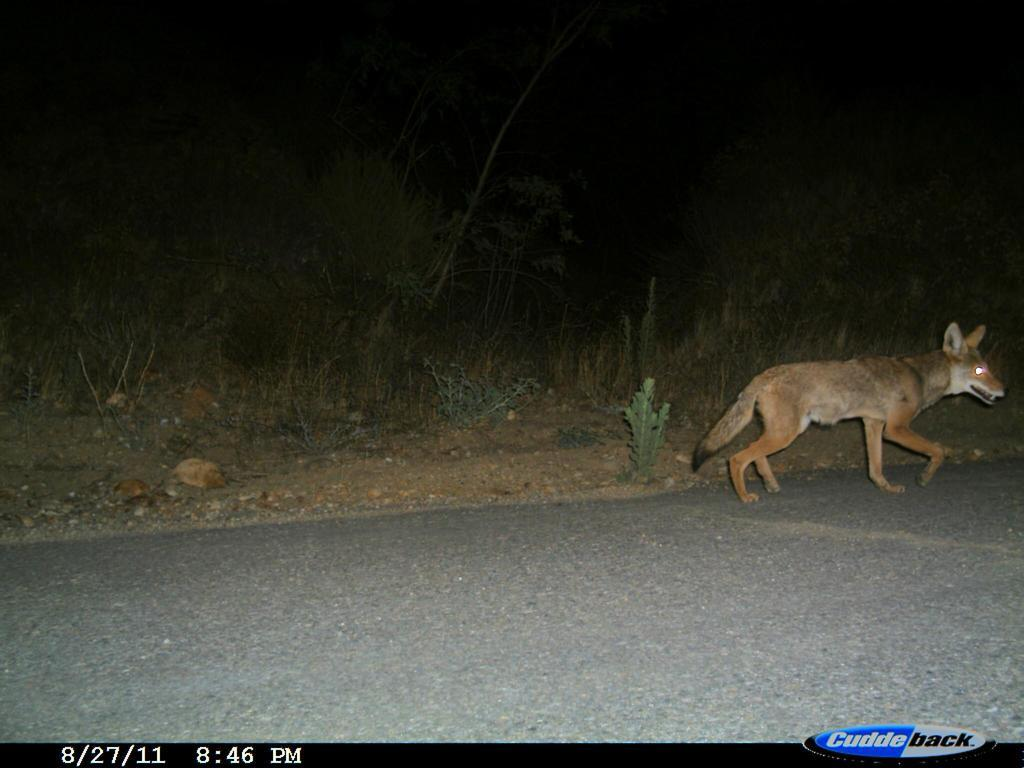coyote: (690, 314, 1013, 516)
